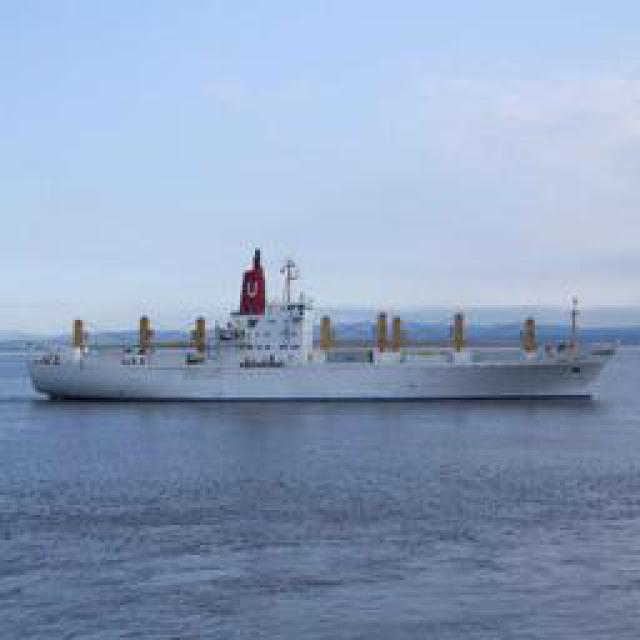Ship: (38, 321, 613, 406)
